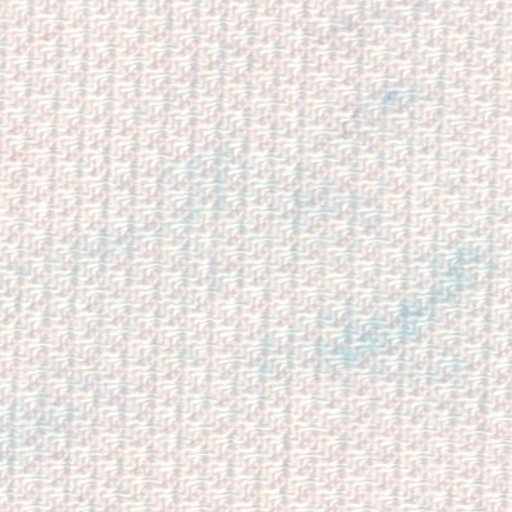WuZi: (72, 60, 504, 423)
